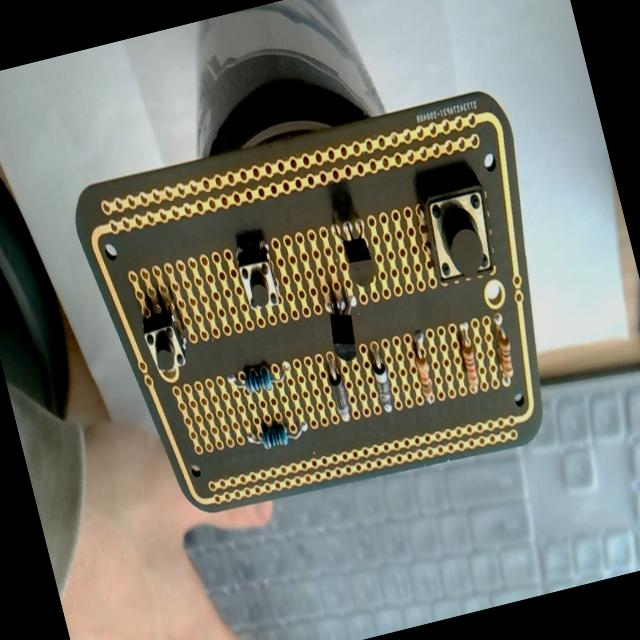diode: (364, 340, 396, 414), (322, 352, 353, 423)
resistor: (226, 357, 292, 399), (485, 312, 521, 388), (244, 414, 310, 454), (408, 332, 439, 405), (454, 325, 484, 394)
switch: (416, 177, 504, 290), (134, 291, 192, 380), (232, 238, 284, 314)
transistor: (317, 284, 368, 366), (333, 214, 380, 292)
